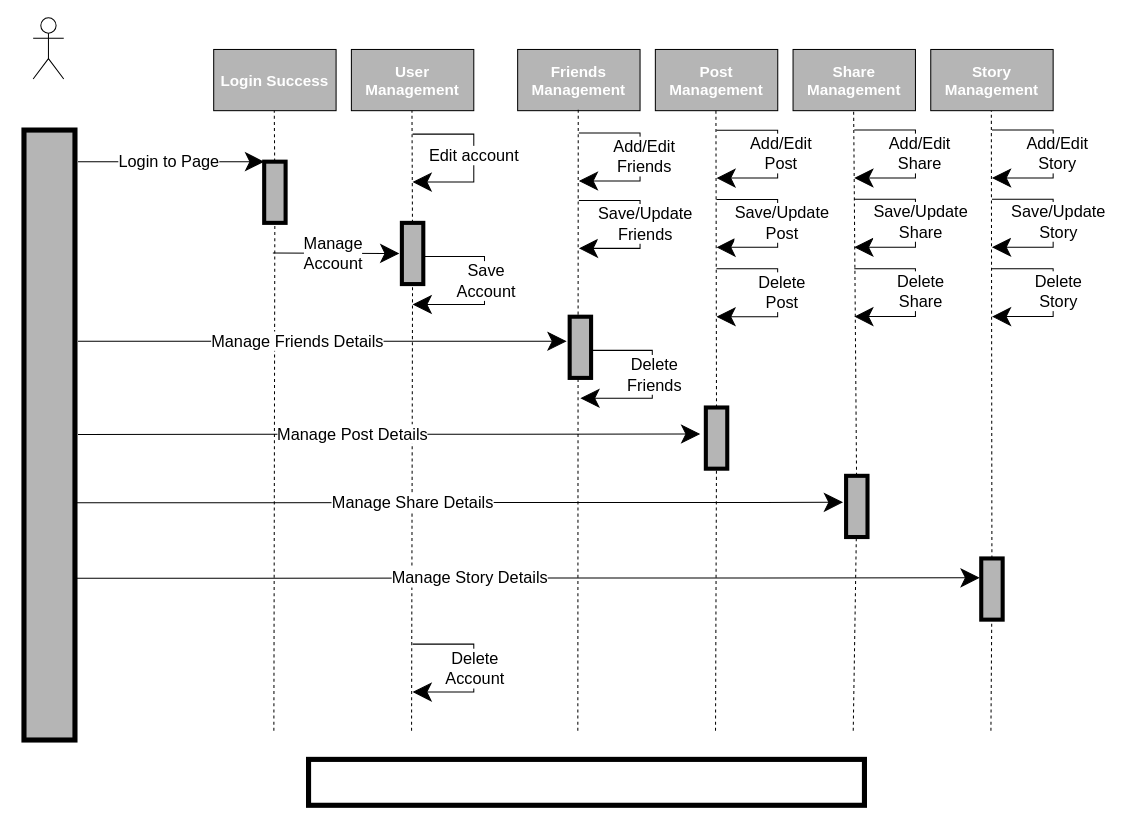
This 1123x825 diagram has some shape labels left out. The centre of each missing label's shape, as x and y in pixels:
"Sequence Diagram Of Triibe" goes at (585,781).
"Student" goes at (48,48).
